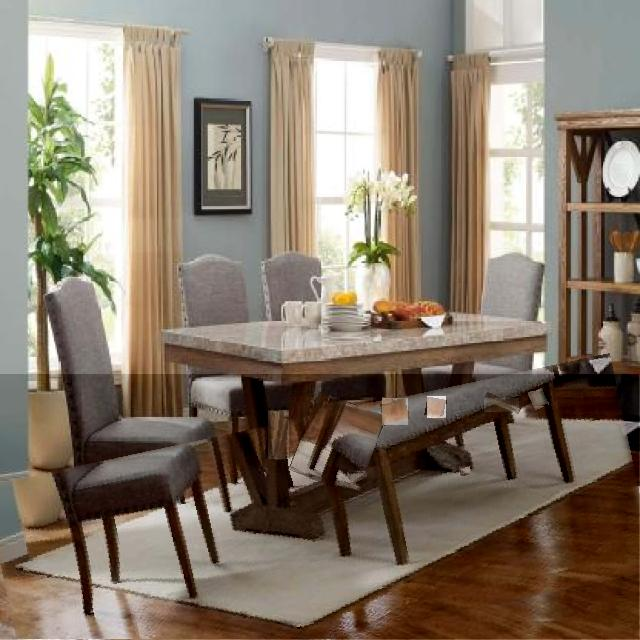floor: (1, 374, 640, 640), (289, 398, 384, 478), (269, 411, 289, 459), (382, 398, 408, 425), (485, 399, 519, 412), (428, 396, 446, 418), (529, 392, 548, 406), (349, 472, 367, 483), (459, 467, 470, 474)
